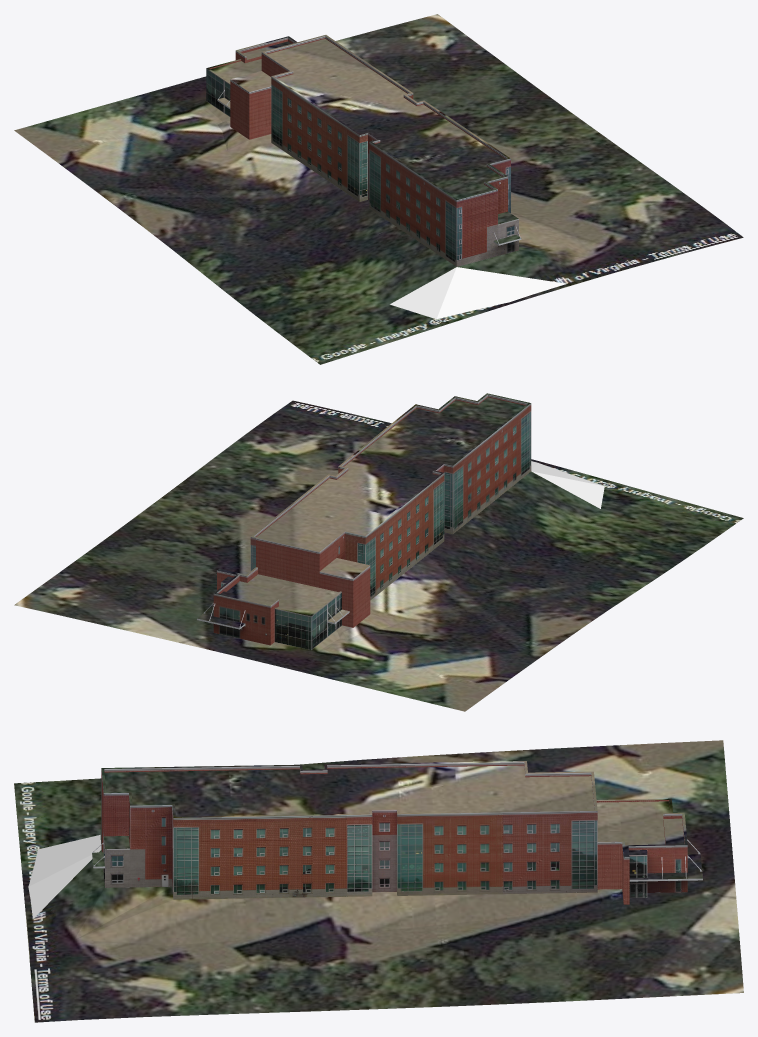
The model's file is Kuyper-Apartments.fbx.
3 views of the same model, one above another, from view 1: azimuth 30°, elevation 25°; view 2: azimuth 150°, elevation 25°; view 3: azimuth 270°, elevation 25° (orthographic). The views are drawn at different scales.
Parts seen in each view (by area): view 1: Google_Earth_Terrain, Model; view 2: Google_Earth_Terrain, Model; view 3: Model, Google_Earth_Terrain.
Part boxes in pixels (x1,y1,x2,y2): Google_Earth_Terrain: [14, 14, 743, 364]; Model: [199, 35, 591, 319]; Google_Earth_Terrain: [14, 400, 743, 711]; Model: [197, 393, 604, 655]; Model: [28, 761, 702, 945]; Google_Earth_Terrain: [14, 740, 743, 1022].
Size of the model in its own units: 3956 by 812 by 4543.
